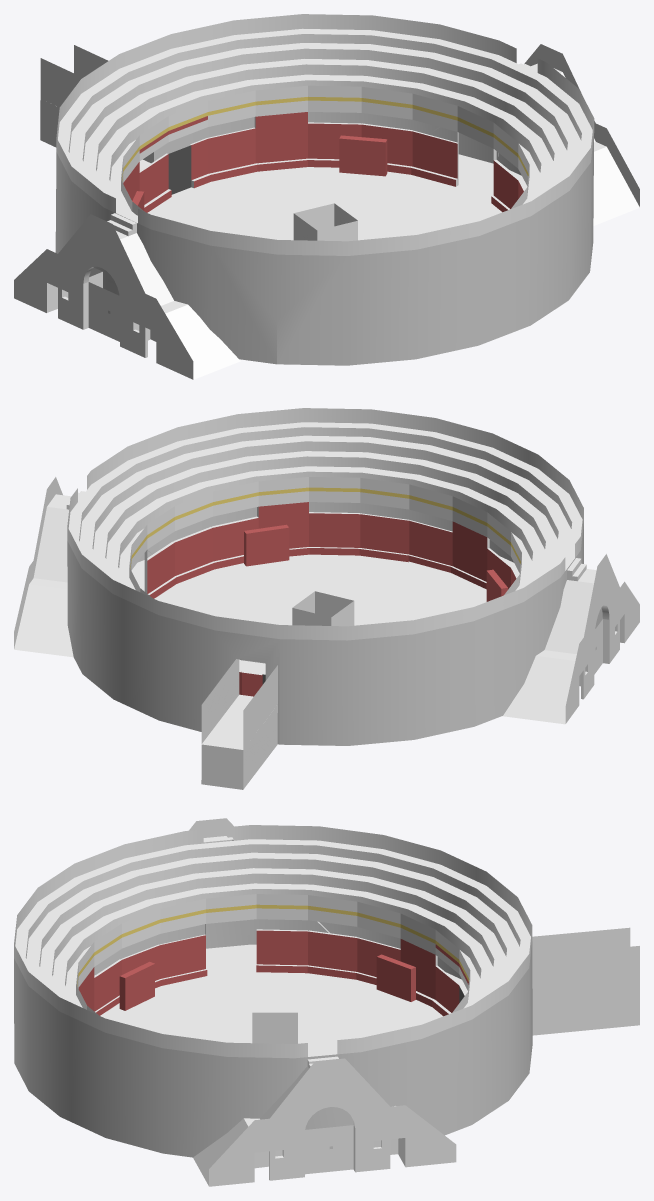
File: Plaza de Toros de Torremocha.glb
3 renders of one model, top to bottom at view 1: azimuth 30°, elevation 25°; view 2: azimuth 150°, elevation 25°; view 3: azimuth 270°, elevation 25°, orthographic. The views are drawn at different scales.
Parts seen in each view (by area): view 1: Layer0_001 -col; view 2: Layer0_001 -col; view 3: Layer0_001 -col.
Boxes of the visible parts, x1,y1,x2,y2 form: Layer0_001 -col: (14, 14, 639, 379); Layer0_001 -col: (14, 408, 639, 789); Layer0_001 -col: (14, 818, 639, 1186).
Bounding box in the file's own units: 52.58 × 11.16 × 52.62.
